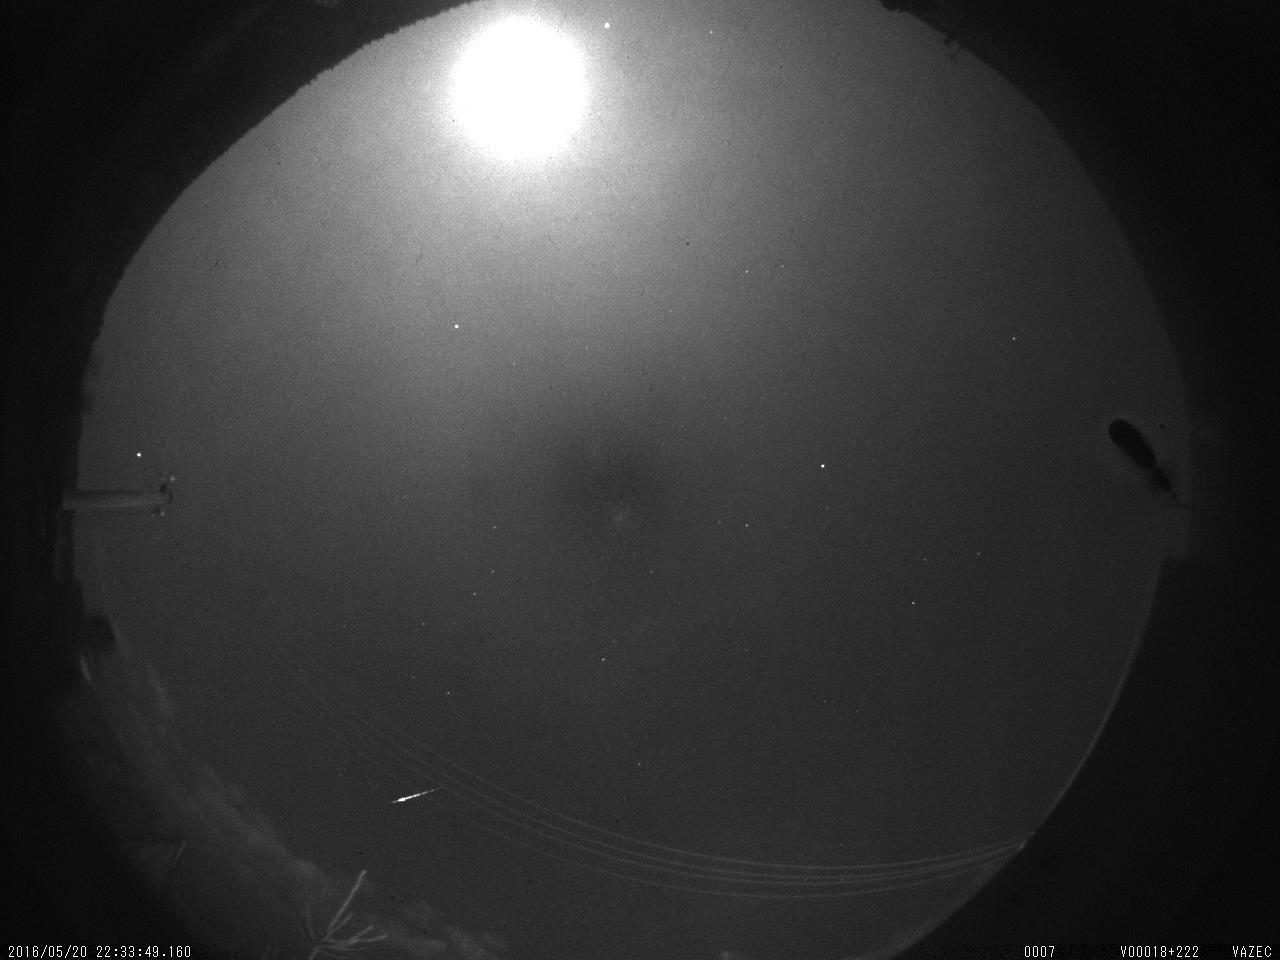meteor: (395, 780, 442, 813)
